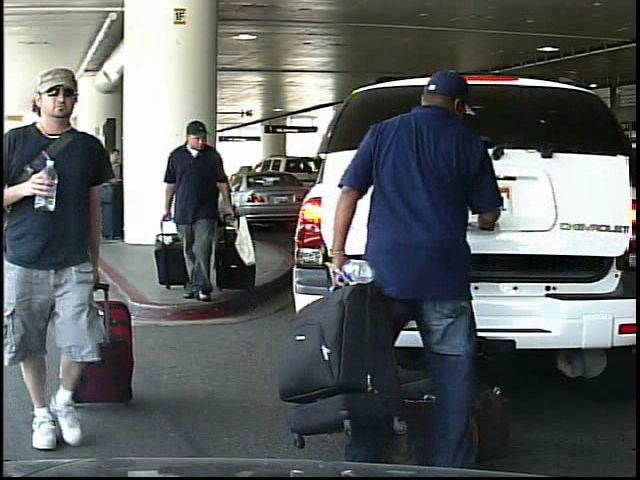person: (330, 74, 522, 474), (5, 74, 146, 463), (158, 117, 250, 304)
